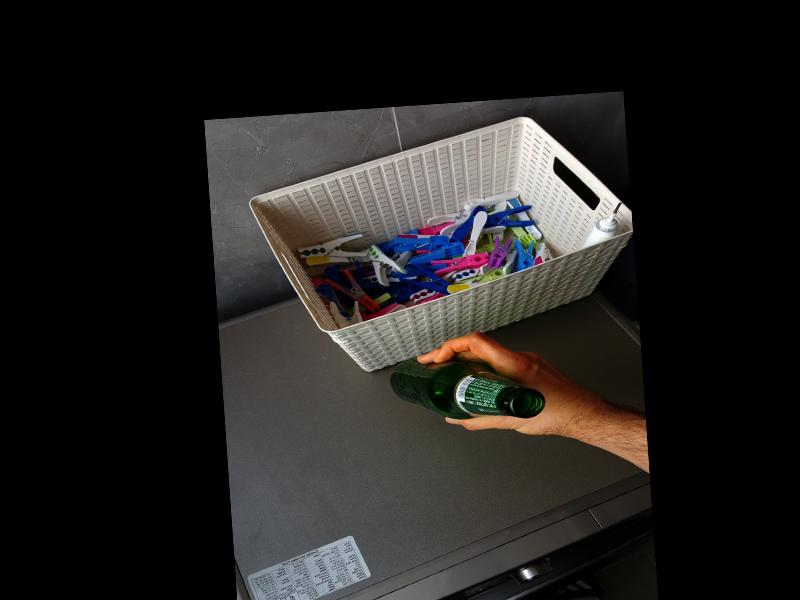Beer: (389, 346, 545, 427)
